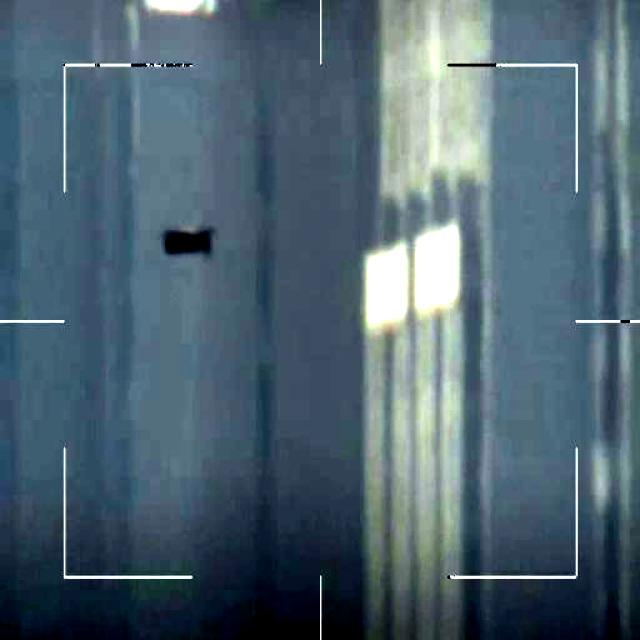bird: (154, 228, 219, 261)
